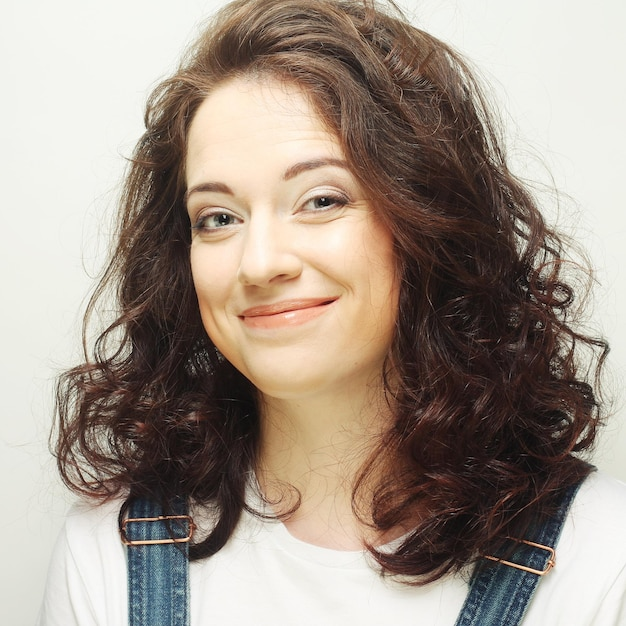teen: (103, 20, 473, 462)
